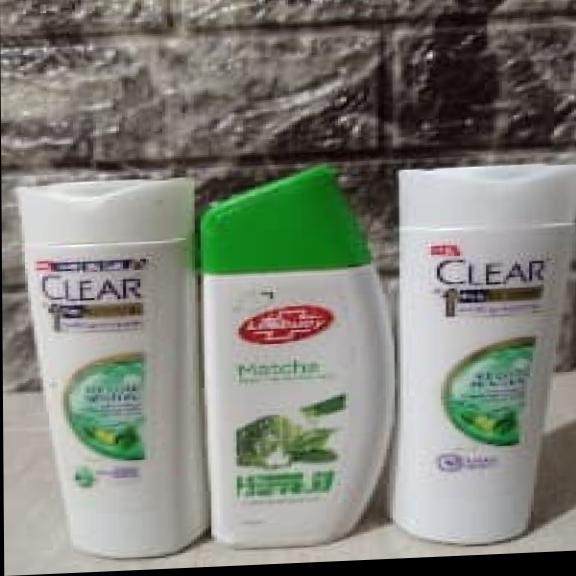Plastik: (20, 183, 208, 558), (393, 167, 575, 543)
